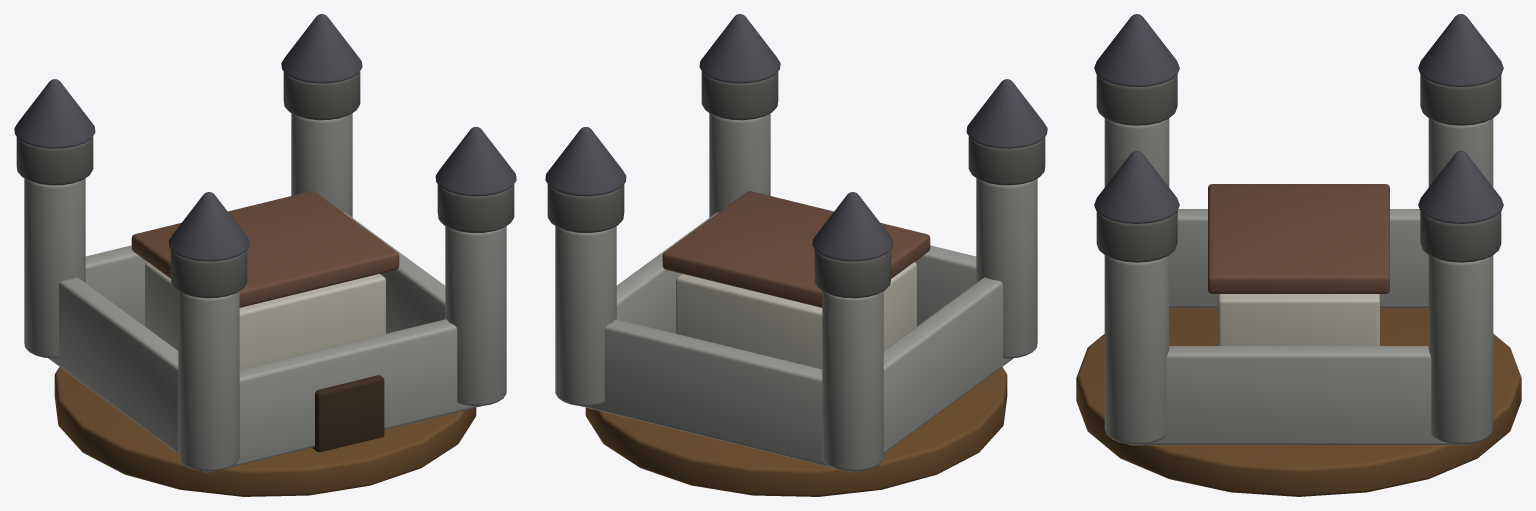
Rendered from prison_mini.glb.
3 views of the same model, side by side, from view 1: azimuth 30°, elevation 25°; view 2: azimuth 150°, elevation 25°; view 3: azimuth 270°, elevation 25° (orthographic). The views are drawn at different scales.
Parts seen in each view (by area): view 1: prison_mini; view 2: prison_mini; view 3: prison_mini.
Boxes of the visible parts, x1=… form: prison_mini: x1=14, y1=14, x2=516, y2=496; prison_mini: x1=545, y1=14, x2=1047, y2=496; prison_mini: x1=1076, y1=14, x2=1521, y2=496.
Bounding box in the file's own units: 2.2 × 1.75 × 2.2.
